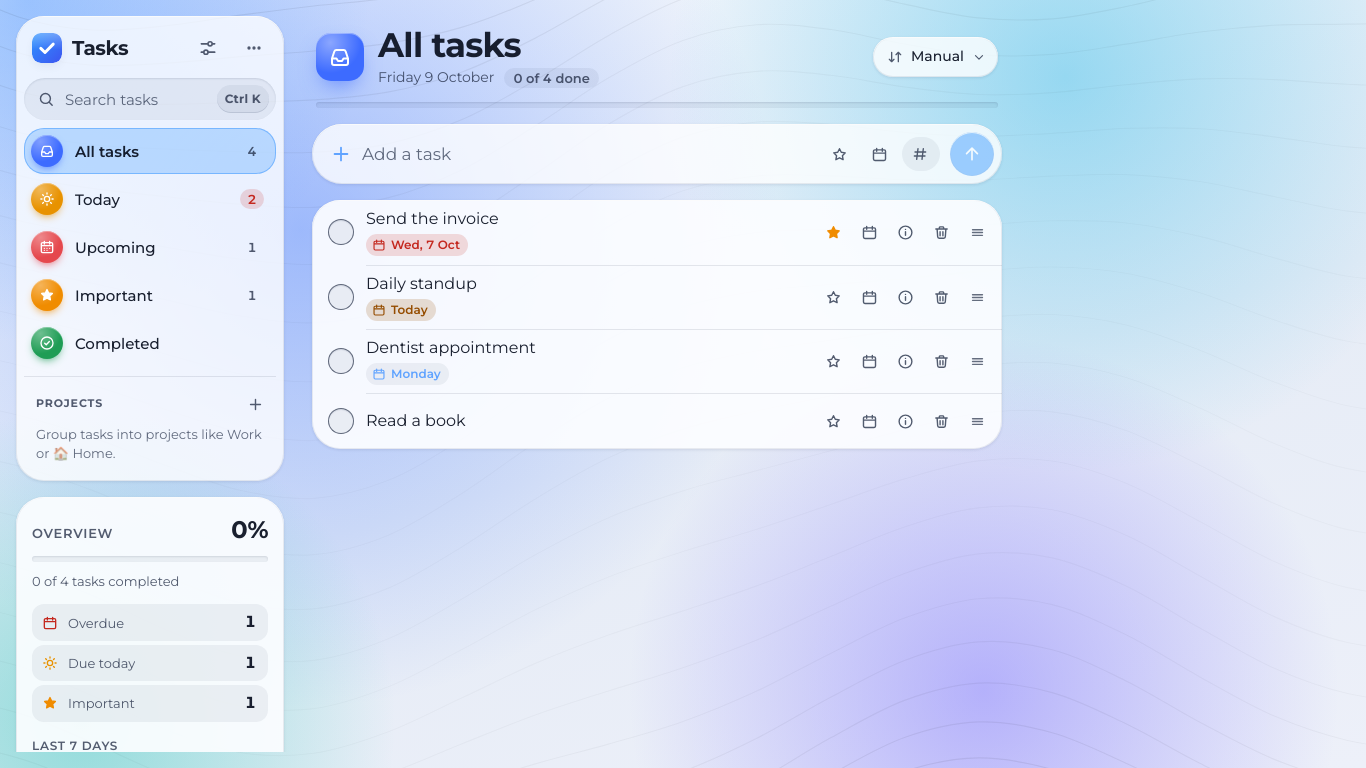
Scenario: App shell › switches the interface language
Click the button named "Settings".
click(208, 48)  # box [186,26,230,70]
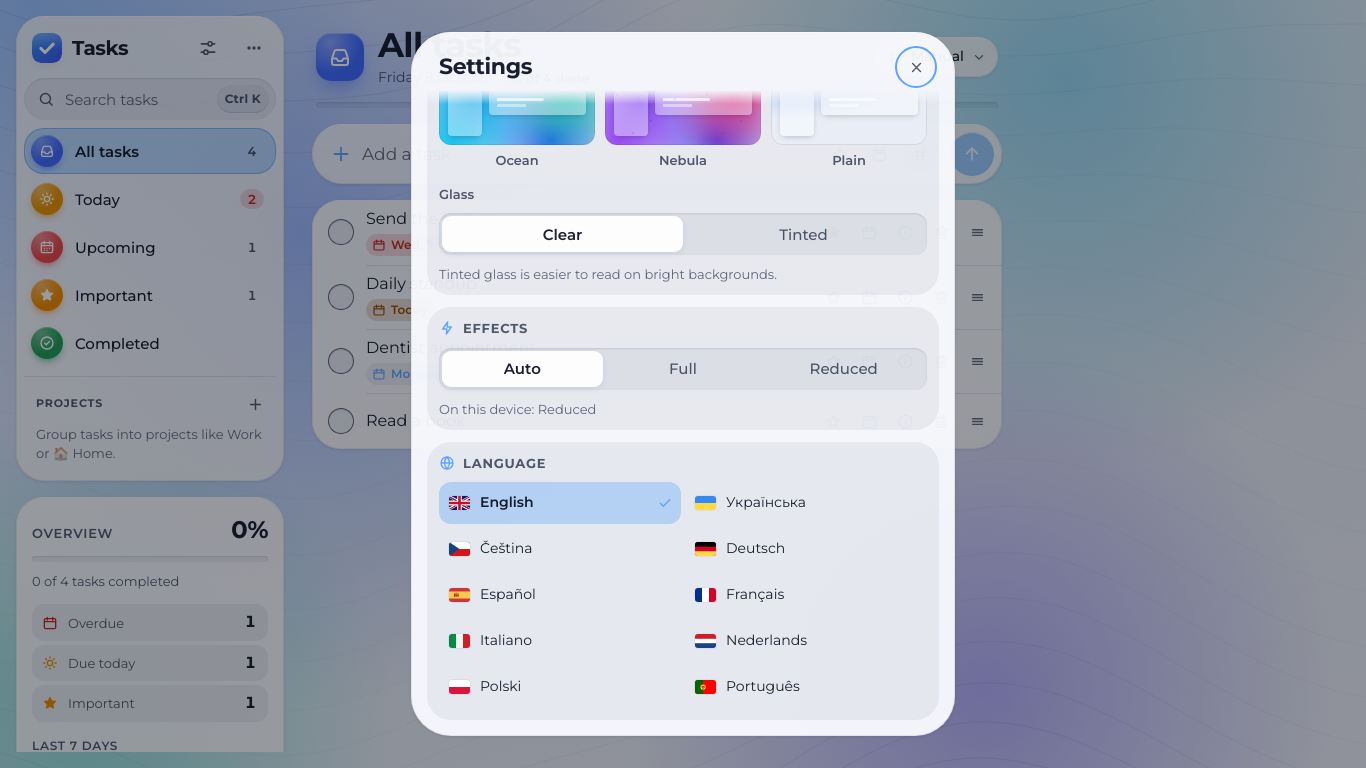
Click the radio button labelled "Українська".
click(750, 502)  # box [695,493,806,511]
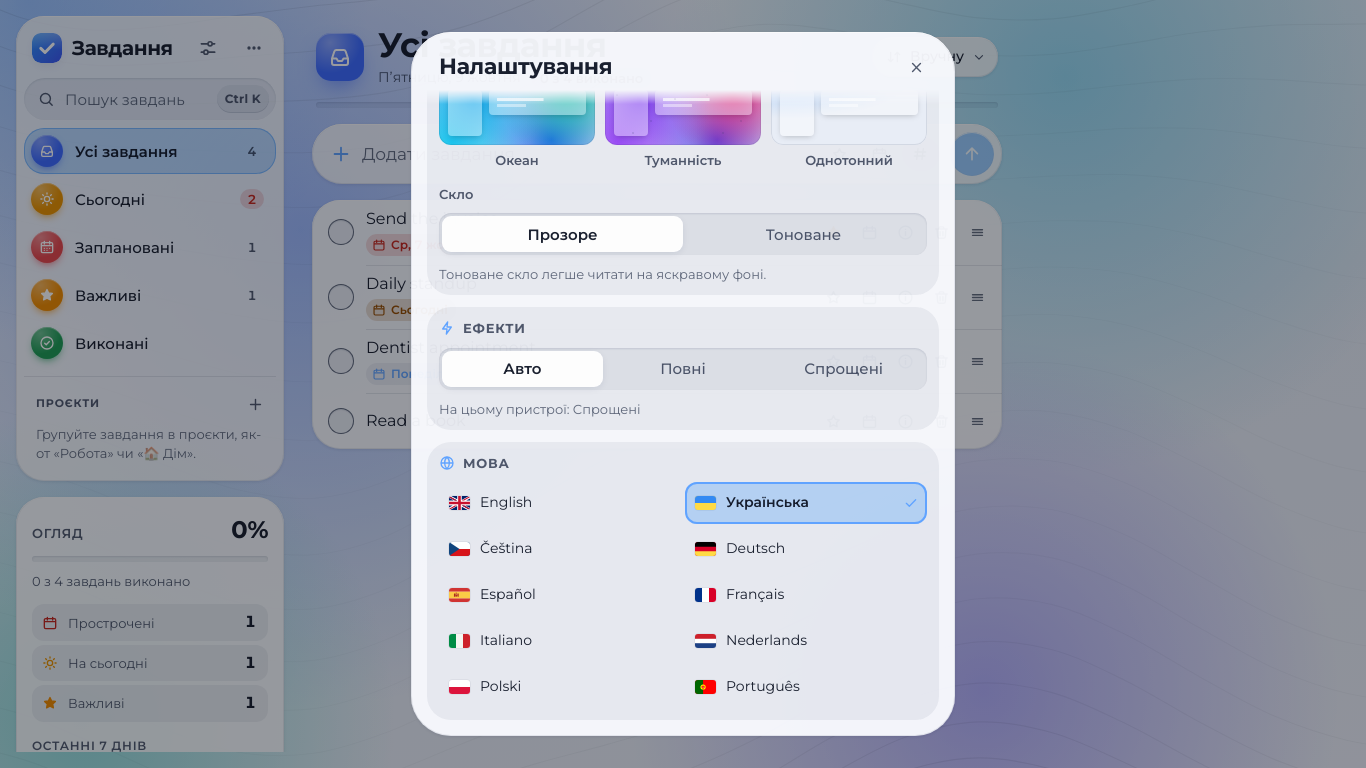
Now the heading "Усі завдання" is shown, box [378,24,606,66]
Now the button named "Сьогодні (2)" is shown, box [24,176,276,222]
Now the field named "Нове завдання" is shown, box [362,132,812,176]
